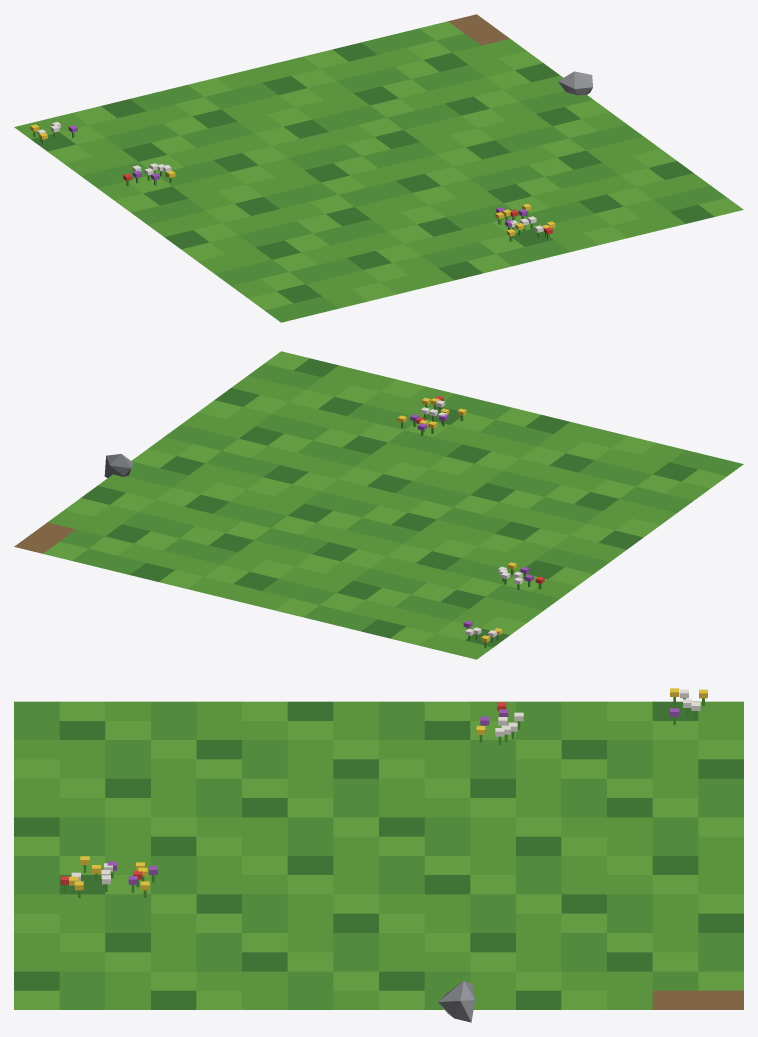
File: chunk_1_4.glb
The picture shows the model from 3 angles, top to bottom: view 1: azimuth 30°, elevation 25°; view 2: azimuth 150°, elevation 25°; view 3: azimuth 270°, elevation 25°; orthographic projection. The views are drawn at different scales.
Parts seen in each view (by area): view 1: chunk_1_4; view 2: chunk_1_4; view 3: chunk_1_4.
Part boxes in pixels (x1=…): chunk_1_4: x1=14, y1=14, x2=743, y2=322; chunk_1_4: x1=14, y1=351, x2=743, y2=659; chunk_1_4: x1=14, y1=688, x2=743, y2=1022.
Bounding box in the file's own units: 16.4 × 1.01 × 16.
